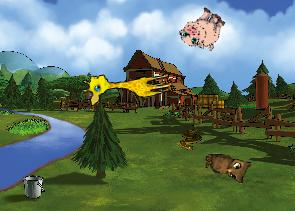giraffe: (80, 61, 174, 107)
owl: (203, 153, 251, 184)
pig: (175, 1, 230, 57)
